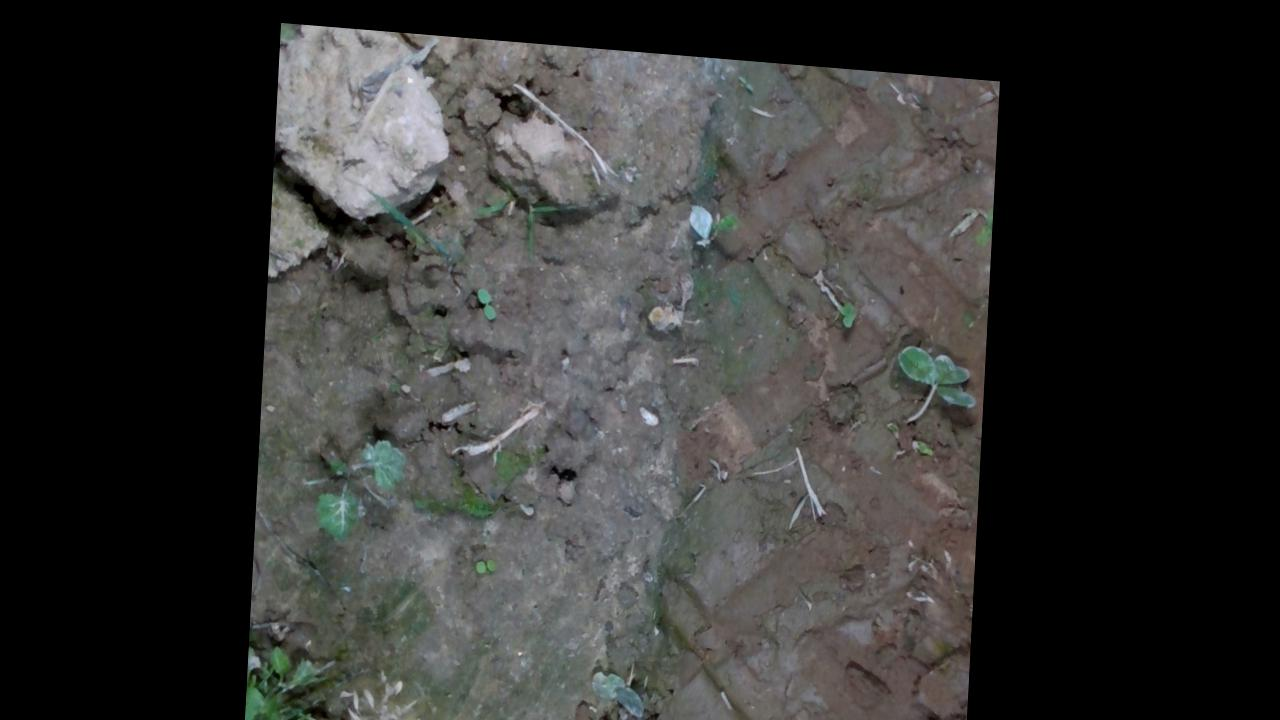weed: (478, 275, 504, 310), (479, 548, 504, 566)
